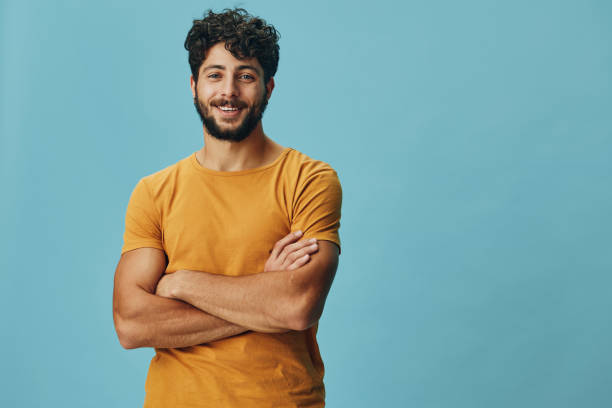Male: (114, 10, 343, 408)
